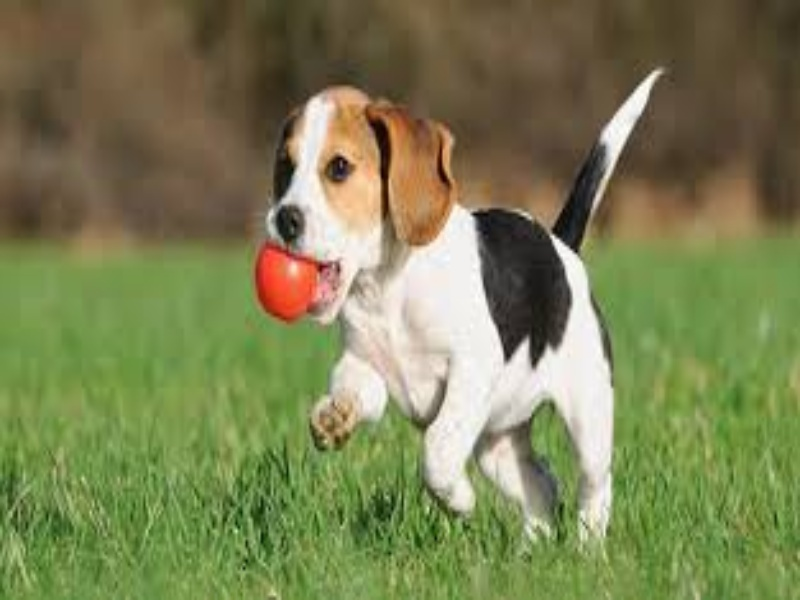dog: (238, 54, 671, 565)
